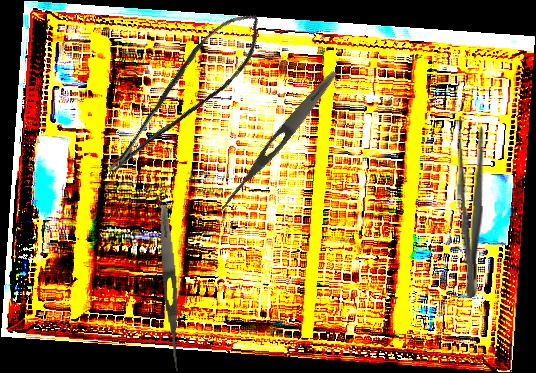Dressing Forceps: (215, 67, 341, 217), (453, 115, 489, 298), (156, 204, 185, 372)
Micro Scissor: (82, 1, 280, 180)
